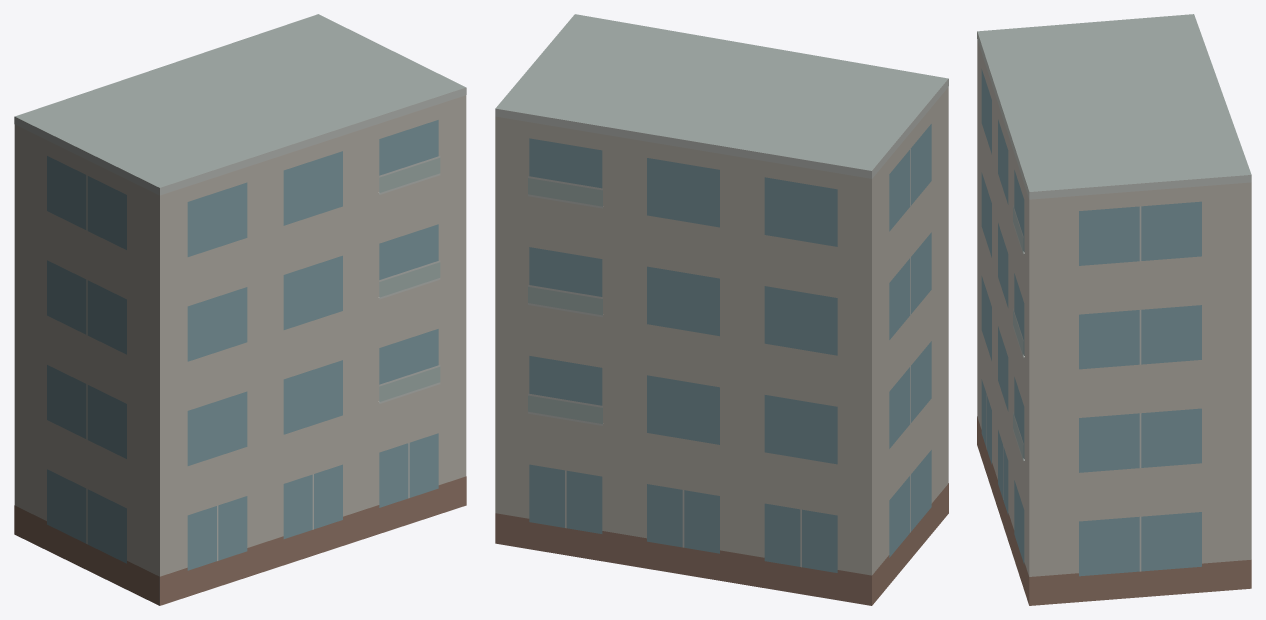
File: survey-upis-32742545.glb
The picture shows the model from 3 angles, left to right: view 1: azimuth 30°, elevation 25°; view 2: azimuth 150°, elevation 25°; view 3: azimuth 270°, elevation 25°; orthographic projection. The views are drawn at different scales.
Parts seen in each view (by area): view 1: survey-upis-32742545.tmp; view 2: survey-upis-32742545.tmp; view 3: survey-upis-32742545.tmp.
Boxes of the visible parts, x1,y1,x2,y2 form: survey-upis-32742545.tmp: [14, 14, 466, 605]; survey-upis-32742545.tmp: [495, 14, 948, 605]; survey-upis-32742545.tmp: [977, 14, 1251, 605].
Bounding box in the file's own units: 12.29 × 13.3 × 8.
